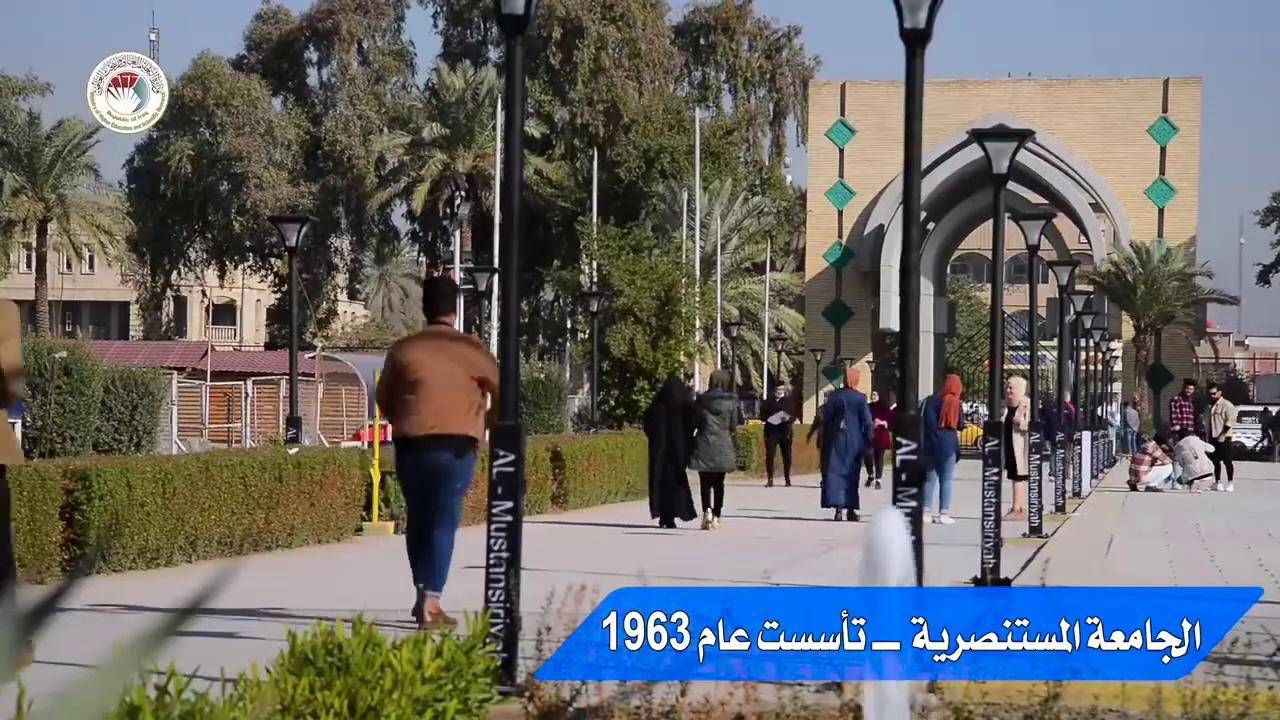car: (982, 348, 1056, 373), (352, 419, 392, 443)
fountain: (855, 503, 919, 718), (856, 503, 918, 587)
person: (373, 275, 500, 629), (642, 371, 700, 528), (819, 365, 874, 521), (689, 369, 742, 529), (918, 373, 964, 524), (759, 380, 798, 487), (1001, 375, 1030, 518), (1206, 382, 1238, 491), (1168, 376, 1198, 490), (863, 389, 893, 489), (1256, 406, 1273, 450)
tree: (115, 0, 821, 438), (520, 0, 680, 427), (228, 0, 419, 344), (662, 0, 820, 402), (365, 56, 573, 340), (115, 48, 316, 340), (0, 68, 129, 339), (1082, 236, 1239, 440), (572, 210, 710, 428), (674, 175, 780, 394), (721, 257, 805, 413), (19, 331, 104, 459), (354, 232, 425, 338), (95, 362, 173, 455), (943, 271, 992, 403), (1250, 188, 1279, 288)
